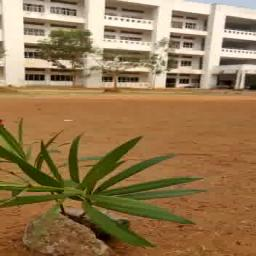OLEANDER: (0, 120, 198, 238)
